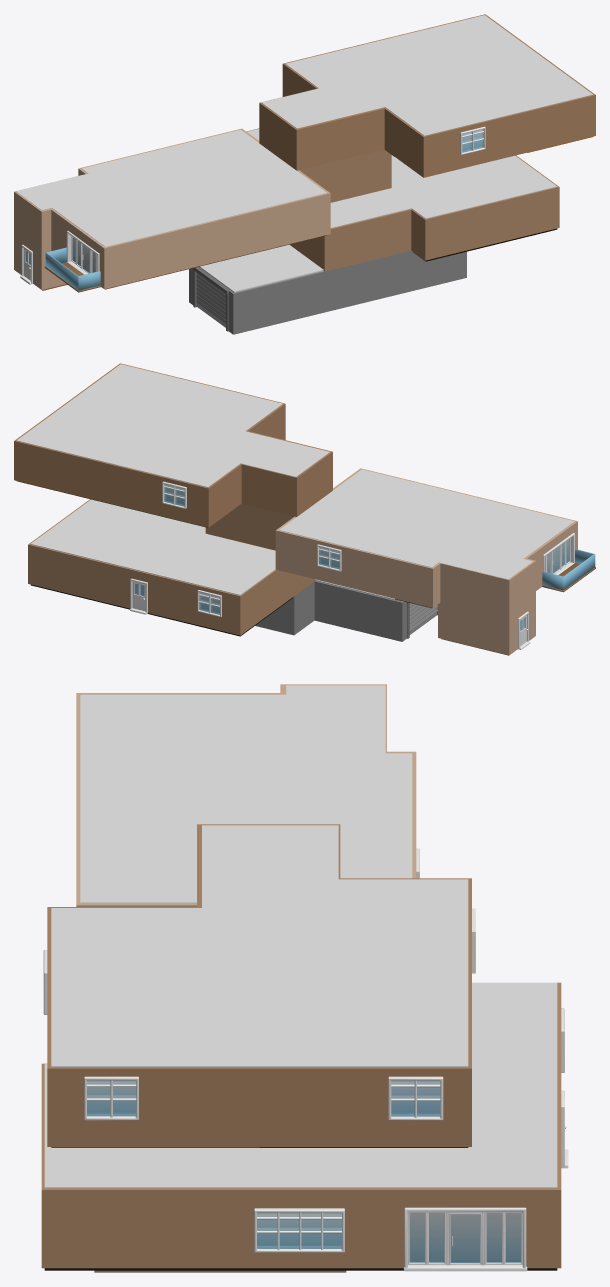
File: House inside.fbx
3 views of the same model, one above another, from view 1: azimuth 30°, elevation 25°; view 2: azimuth 150°, elevation 25°; view 3: azimuth 270°, elevation 25° (orthographic). The views are drawn at different scales.
Parts seen in each view (by area): view 1: Plane.011, Plane.012, Plane.001, Plane, Plane.008, Plane.013, Plane.010, Plane.016, Plane.007, Garage door, Plane.026, Plane.017 (+2 smaller); view 2: Plane.011, Plane.012, Plane.001, Plane.010, Plane, Plane.008, Plane.013, Plane.017, Plane.007, Plane.026, Garage door, Door_frame.013 (+3 smaller); view 3: Plane.011, Plane.012, Plane.010, Plane.008, Plane.001, Door_frame.001, Plane.038, Window.013, Plane, Window.004, Window.003, Door_frame.009 (+2 smaller).
Boxes of the visible parts, bbox=[...] form: Plane.011: bbox=[261, 15, 592, 135]; Plane.012: bbox=[16, 129, 326, 246]; Plane.001: bbox=[259, 14, 595, 177]; Plane: bbox=[14, 128, 330, 289]; Plane.008: bbox=[246, 128, 559, 271]; Plane.013: bbox=[189, 250, 466, 334]; Plane.010: bbox=[247, 129, 557, 228]; Plane.016: bbox=[199, 244, 323, 292]; Plane.007: bbox=[299, 149, 391, 202]; Garage door: bbox=[191, 267, 230, 331]; Plane.026: bbox=[44, 247, 100, 292]; Plane.017: bbox=[14, 232, 65, 289]; Plane.011: bbox=[17, 364, 329, 487]; Plane.012: bbox=[279, 469, 574, 579]; Plane.001: bbox=[14, 363, 332, 527]; Plane.010: bbox=[31, 499, 275, 595]; Plane: bbox=[275, 468, 577, 619]; Plane.008: bbox=[28, 499, 315, 635]; Plane.013: bbox=[255, 581, 407, 641]; Plane.017: bbox=[438, 600, 535, 655]; Plane.007: bbox=[205, 503, 294, 550]; Plane.026: bbox=[542, 549, 595, 592]; Garage door: bbox=[406, 602, 437, 638]; Door_frame.013: bbox=[545, 538, 570, 573]; Plane.011: bbox=[51, 825, 468, 1066]; Plane.012: bbox=[80, 685, 412, 902]; Plane.010: bbox=[44, 982, 557, 1188]; Plane.008: bbox=[41, 982, 561, 1268]; Plane.001: bbox=[47, 824, 471, 1146]; Door_frame.001: bbox=[408, 1212, 522, 1265]; Plane.038: bbox=[410, 1213, 520, 1261]; Window.013: bbox=[254, 1208, 344, 1252]; Plane: bbox=[76, 684, 416, 906]; Window.004: bbox=[388, 1076, 443, 1120]; Window.003: bbox=[84, 1076, 138, 1120]; Door_frame.009: bbox=[403, 1207, 527, 1271].
Bounding box in the file's own units: 3905 × 1207 × 1825.
2 materials, 2 textured.
